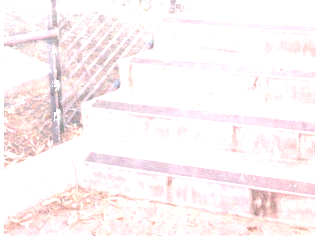Obstacle: (56, 33, 319, 222), (6, 26, 113, 228)
